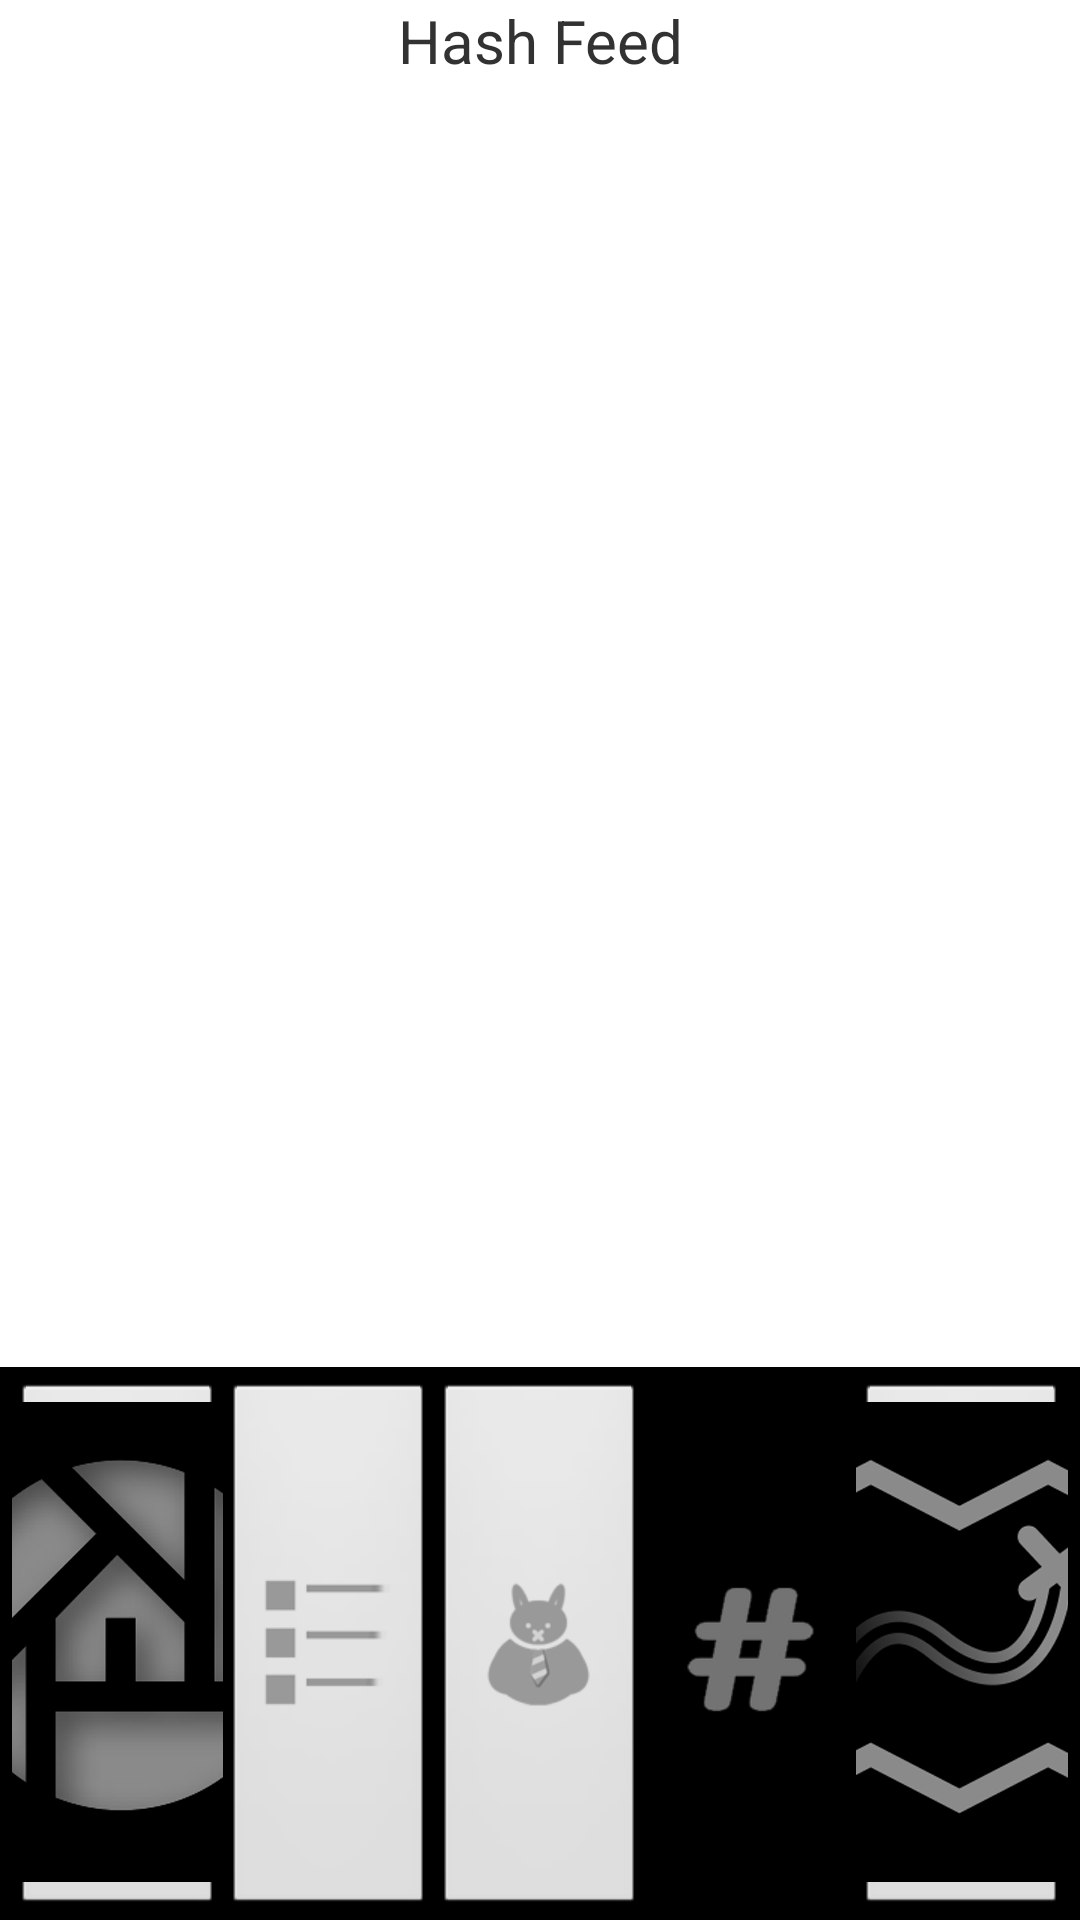

Icon bounding boxes for this 1080×1920 phone screenshot, format BBox(x1, y1, x2, y2):
hashtag: BBox(687, 1588, 814, 1711)
